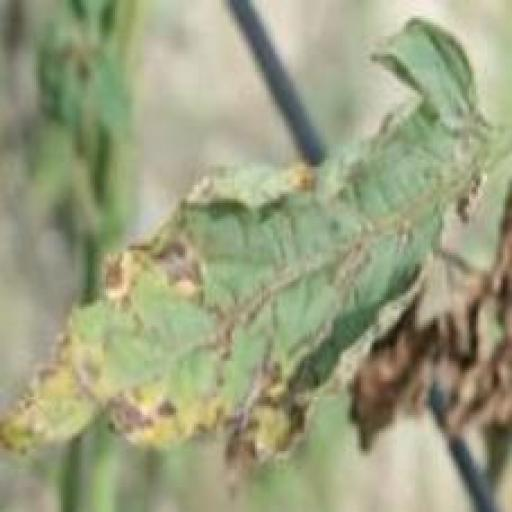Bacterial Spot: (0, 17, 494, 500)
